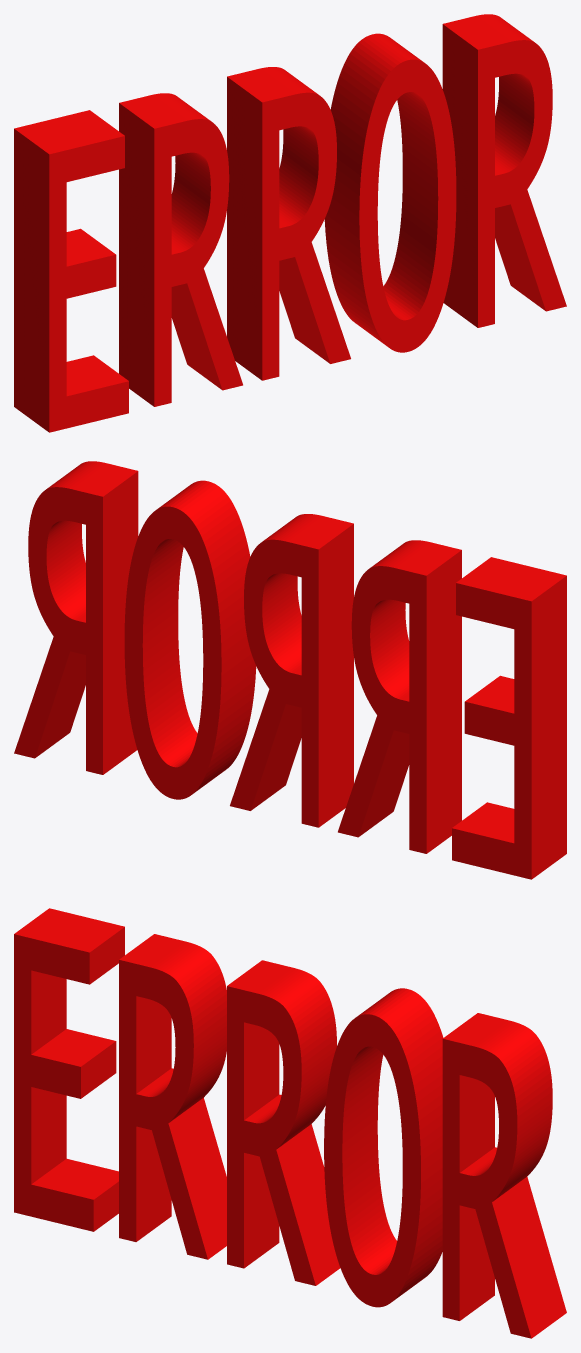
Rendered from error.obj.
The picture shows the model from 3 angles, top to bottom: view 1: azimuth 30°, elevation 25°; view 2: azimuth 150°, elevation 25°; view 3: azimuth 330°, elevation 25°; orthographic projection.
Parts seen in each view (by area): view 1: Text; view 2: Text; view 3: Text.
Boxes of the visible parts, bbox=[...] form: Text: bbox=[14, 14, 566, 432]; Text: bbox=[14, 461, 566, 879]; Text: bbox=[14, 908, 566, 1338].
Size of the model in its own units: 2.17 by 1.17 by 0.2572.
